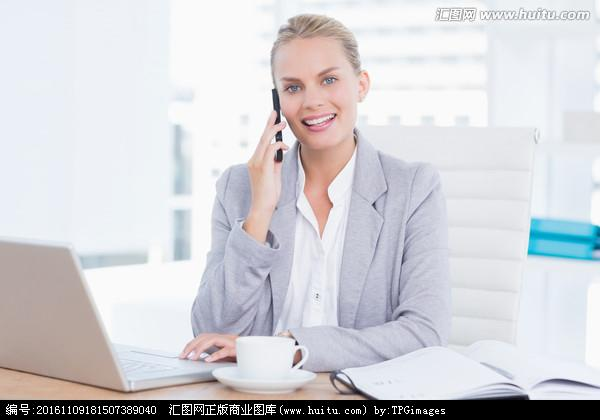calling: (243, 85, 288, 206)
